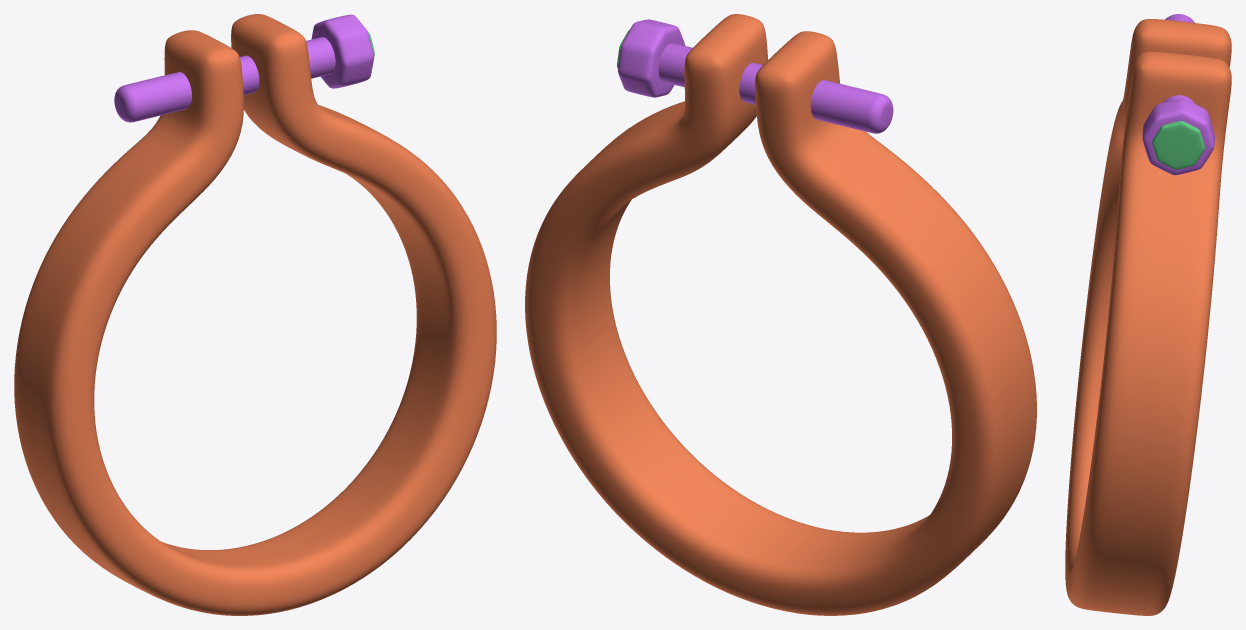
Rendered from 15. Embroidery Hoop.glb.
The picture shows the model from 3 angles, left to right: view 1: azimuth 30°, elevation 25°; view 2: azimuth 150°, elevation 25°; view 3: azimuth 270°, elevation 25°; orthographic projection. The views are drawn at different scales.
Parts seen in each view (by area): view 1: Embroidery Hoop, Cylinder.001, Screw; view 2: Embroidery Hoop, Cylinder.001, Screw; view 3: Embroidery Hoop, Screw, Cylinder.003, Cylinder.001.
Part boxes in pixels (x1,y1,x2,y2): Embroidery Hoop: (14,14,496,615); Cylinder.001: (114,37,335,122); Screw: (311,14,373,88); Embroidery Hoop: (525,14,1036,615); Cylinder.001: (658,43,893,133); Screw: (618,19,685,97); Embroidery Hoop: (1065,19,1231,615); Screw: (1142,98,1214,175); Cylinder.003: (1152,121,1204,169); Cylinder.001: (1163,14,1194,103).
Bounding box in the file's own units: 0.4817 × 0.5674 × 0.1549.
